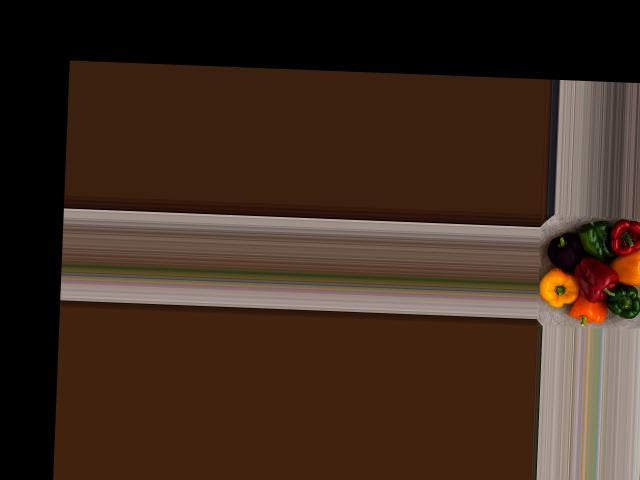bell_pepper: (548, 222, 592, 273)
